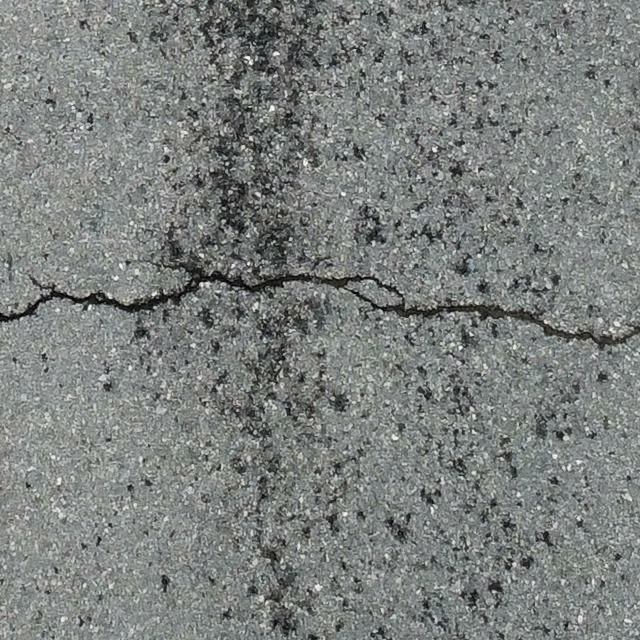TransverseCrack: (1, 273, 640, 350)
